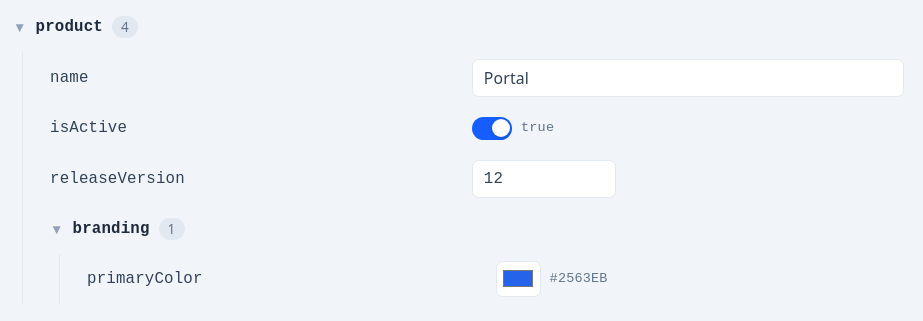
Scenario: JsonViewer › updates string, number, boolean, and color values in Redux
Replace the text in the field named "Edit name" with "New Portal" at (688, 78), box top-left (472, 59), bottom-right (904, 97)
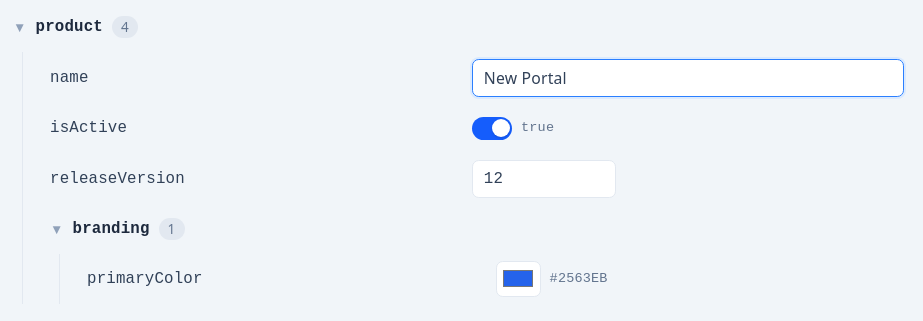
Replace the text in the number field named "Edit releaseVersion" with "42" at (544, 179), box top-left (472, 160), bottom-right (616, 198)
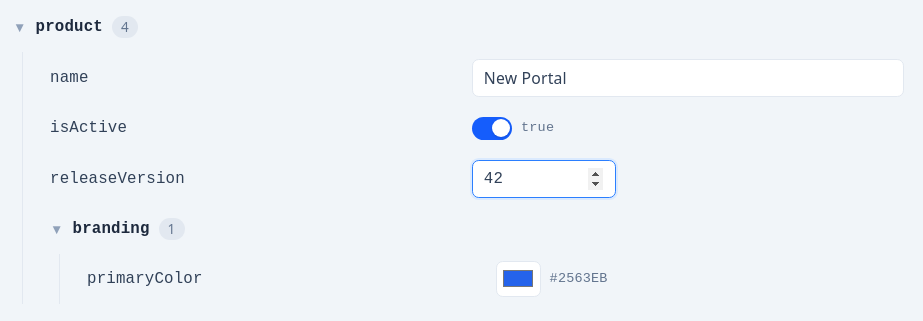
Click the checkbox named "Edit isActive" at (513, 128), box top-left (472, 117), bottom-right (554, 140)
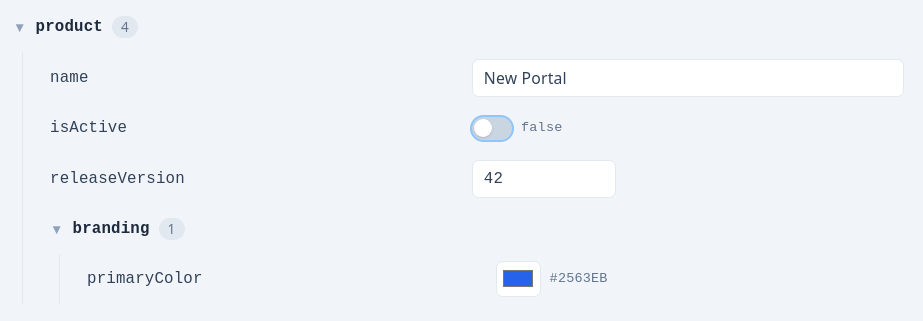
Type "#abcdef" into the colour field named "Edit primaryColor" at (518, 279), box top-left (496, 261), bottom-right (541, 297)
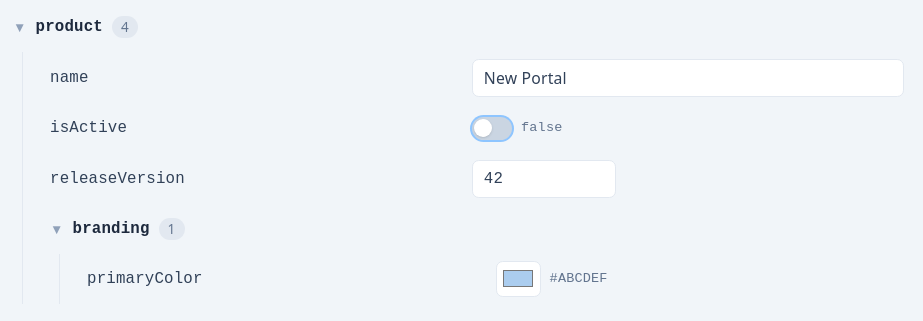
Result: the text "#ABCDEF" is shown at top-left (550, 270), bottom-right (608, 288)
